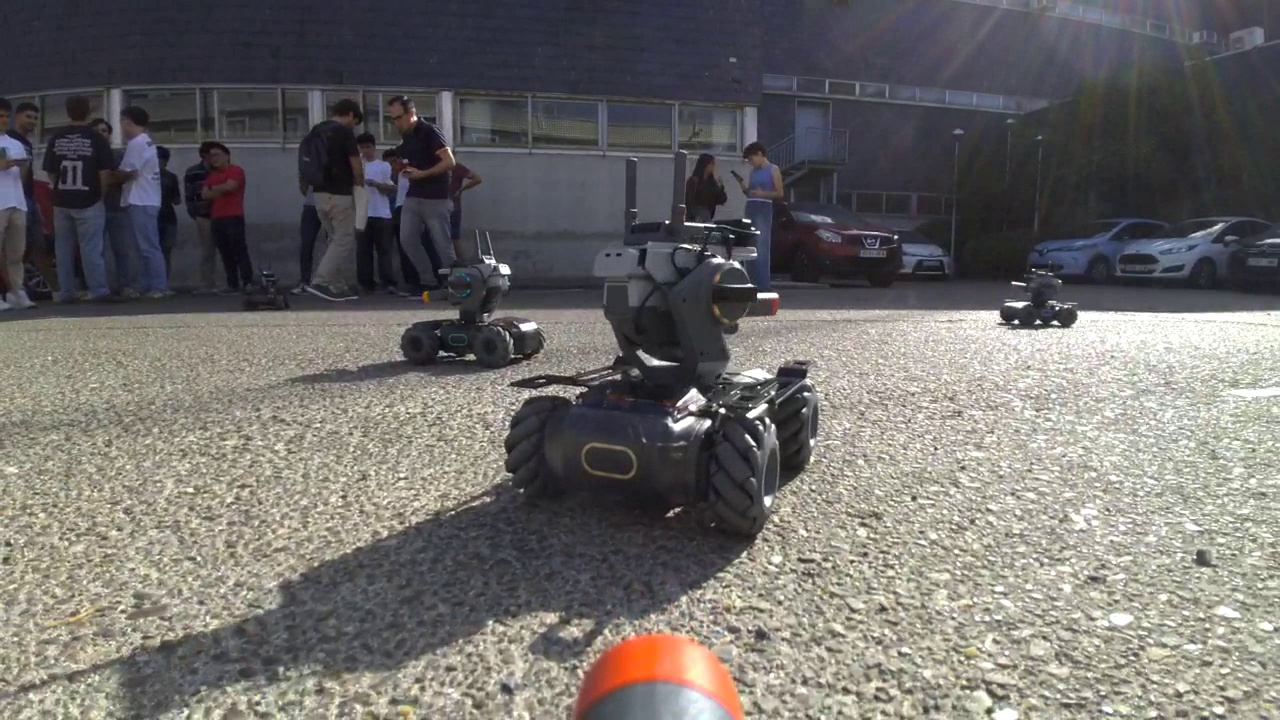robot: (511, 150, 821, 546), (412, 228, 548, 364), (1001, 254, 1076, 334), (239, 271, 289, 312)
